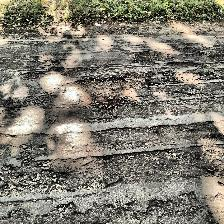pothole: (61, 73, 157, 109)
